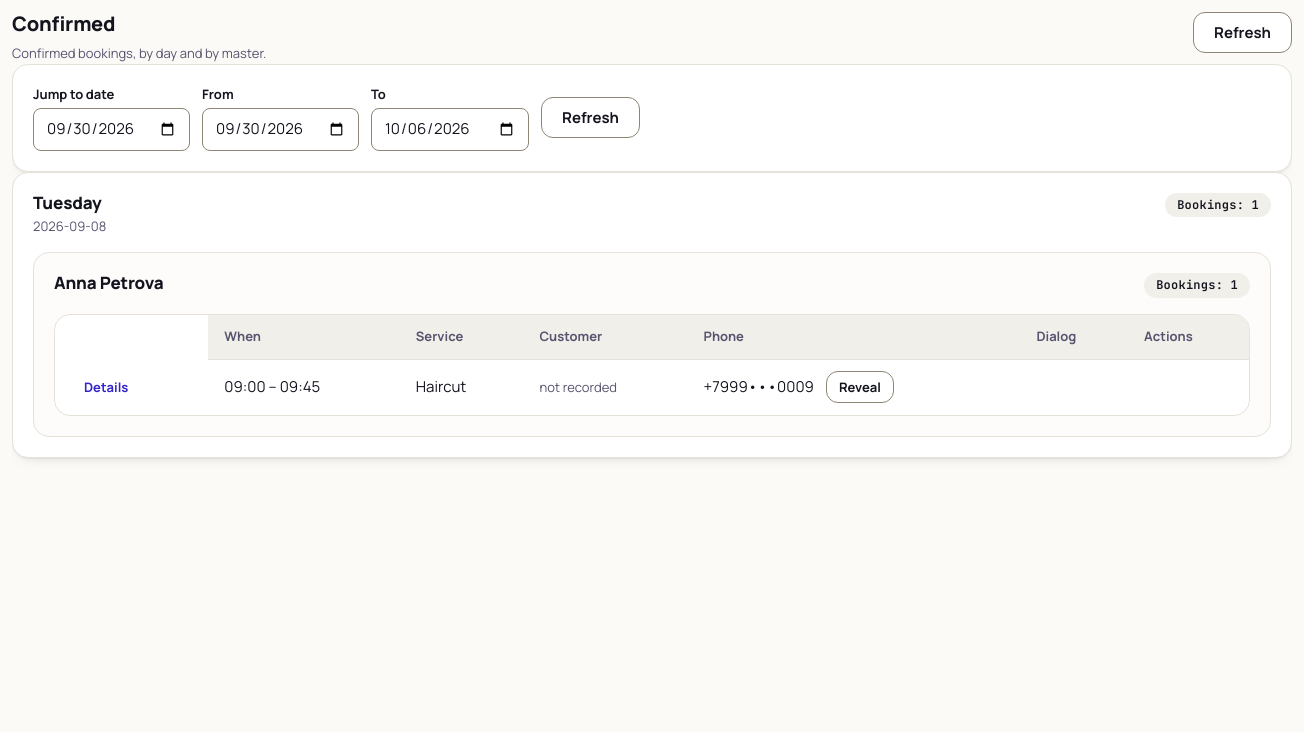
it: revealing a masked phone (23-91) › shows an error and keeps the row masked when the reveal fails
Click the button "Reveal": click(860, 387) [826, 371, 894, 403]
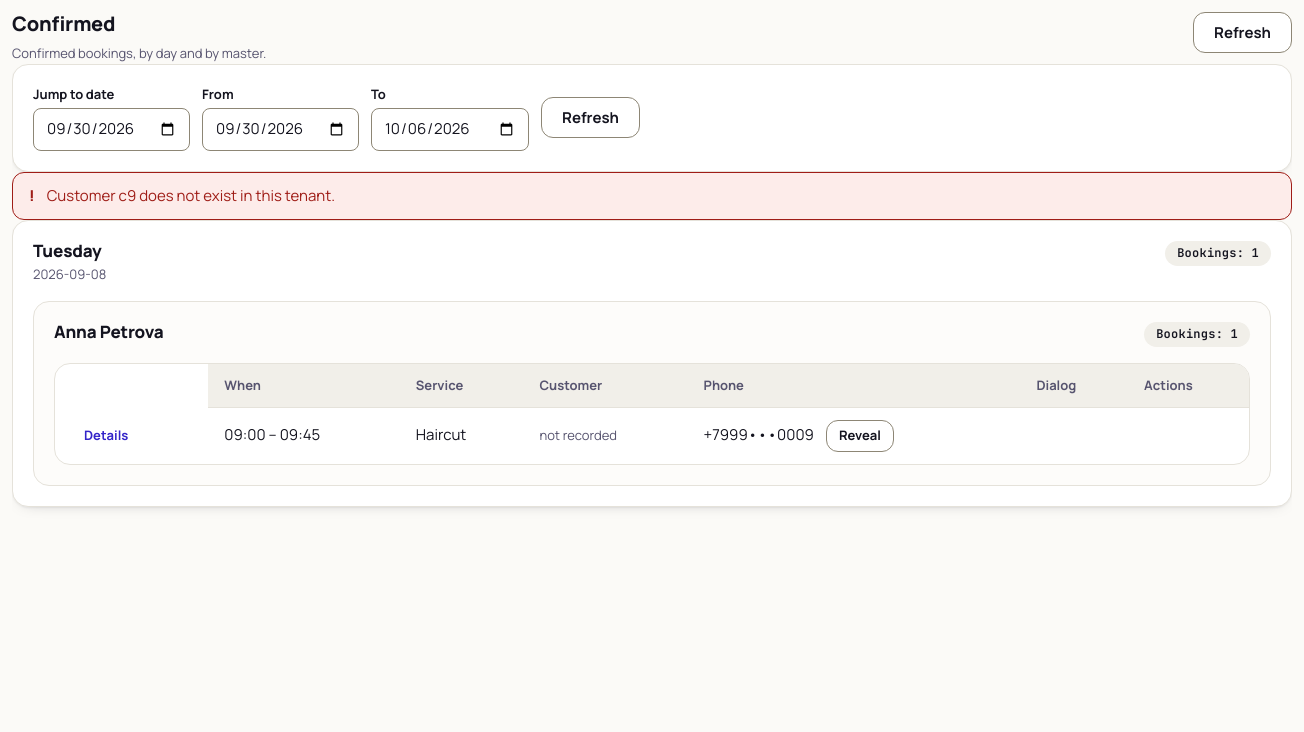
Expected: the text "+7999•••0009" is shown, [704, 424, 814, 447]
Result: the text "Customer c9 does not exist in this tenant." is shown at [47, 184, 335, 207]
